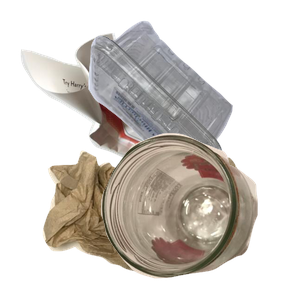glass: (98, 131, 300, 300)
paper: (18, 30, 213, 210)
plastic: (86, 18, 300, 171)
trash: (40, 138, 280, 300)
